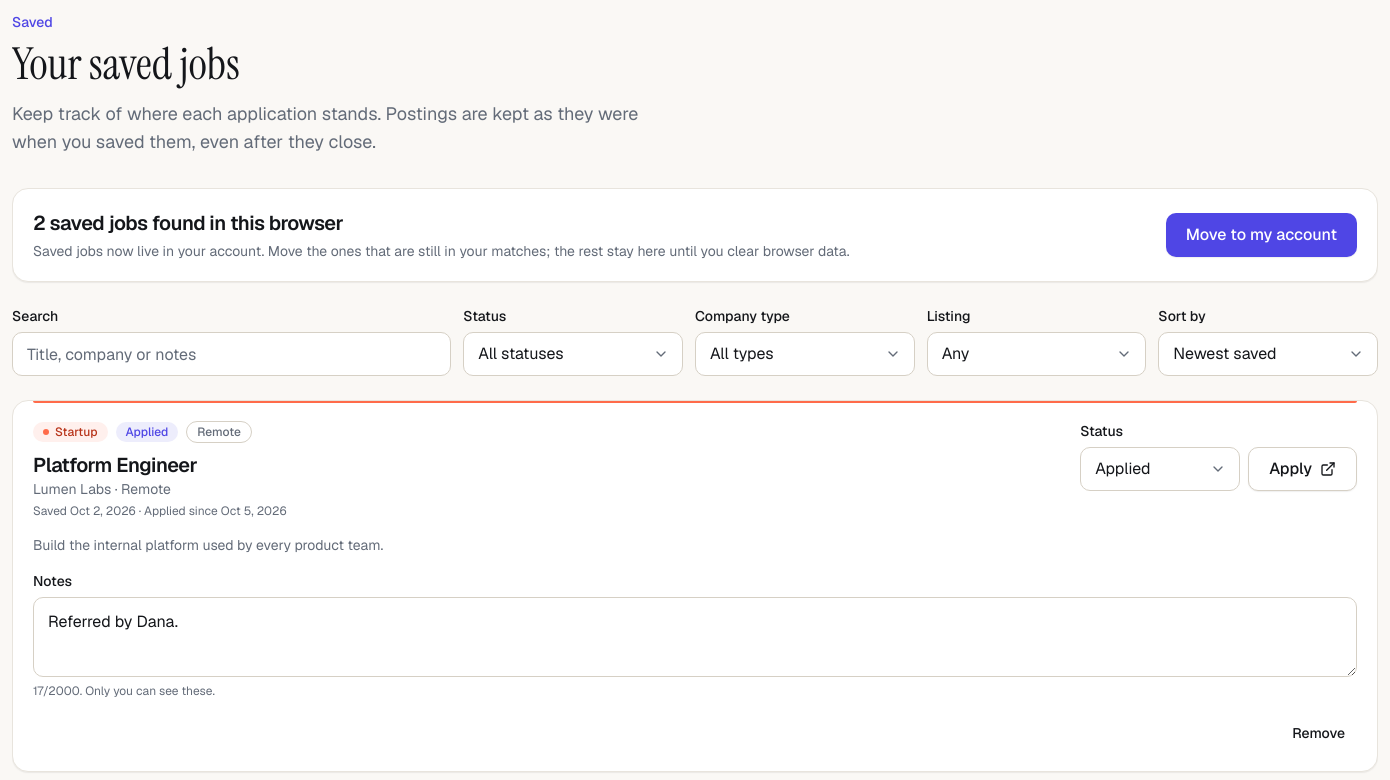
Scenario: Saved jobs page › offers to move browser-only saves to the account once, keeping the ones that could not move
The width and height of the screenshot is (1390, 780).
Expected: the heading "2 saved jobs found in this browser" is shown, left=33, top=210, right=343, bottom=236
Click the button "Move to my account" at (1261, 235), box left=1166, top=213, right=1357, bottom=257
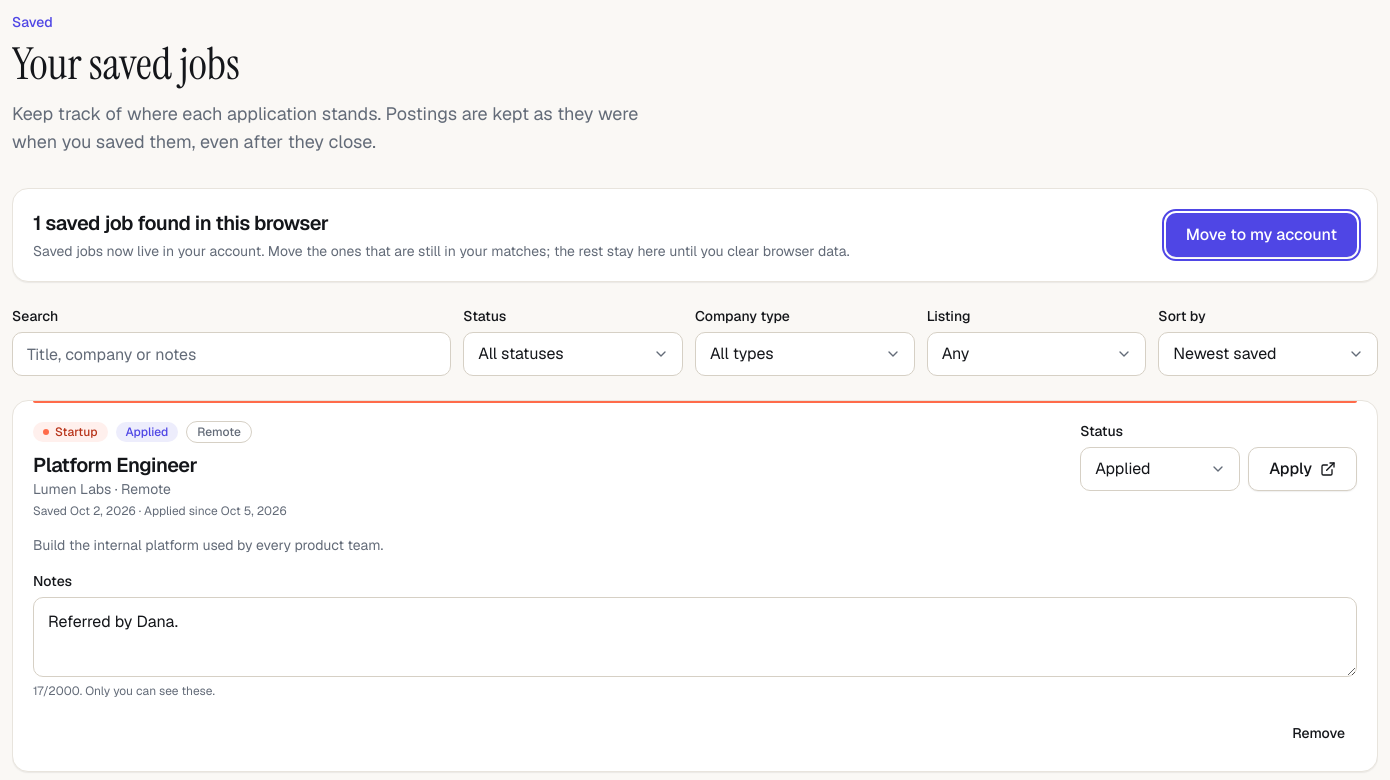
Expected: the heading "1 saved job found in this browser" is shown, left=33, top=210, right=328, bottom=236
